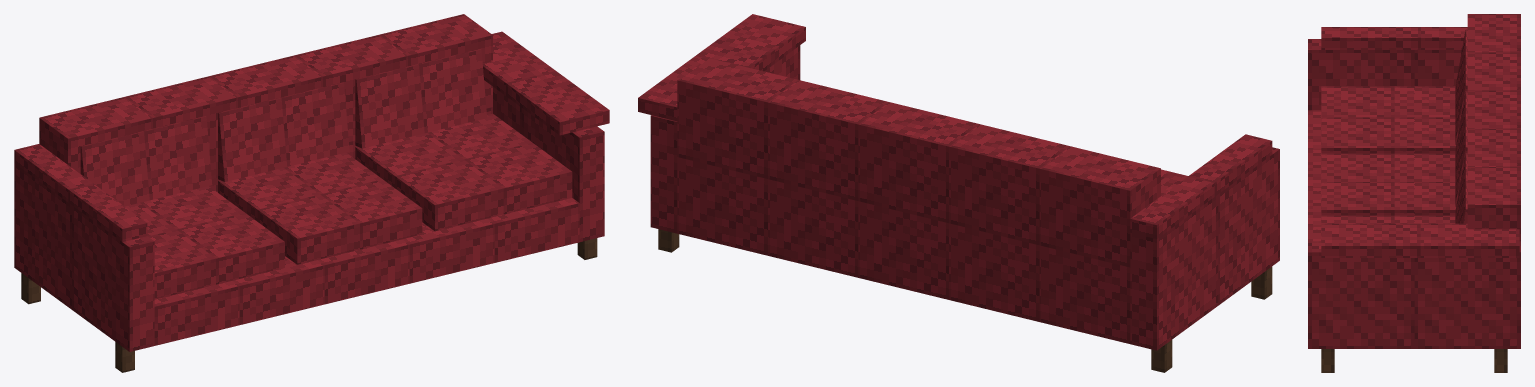
File: loungeCouchWide_6.glb
3 views of the same model, side by side, from view 1: azimuth 30°, elevation 25°; view 2: azimuth 150°, elevation 25°; view 3: azimuth 270°, elevation 25° (orthographic). The views are drawn at different scales.
Visible parts, largest first — view 1: loungeCouchWide_6; view 2: loungeCouchWide_6; view 3: loungeCouchWide_6.
Boxes of the visible parts, bbox=[...] form: loungeCouchWide_6: bbox=[14, 14, 609, 372]; loungeCouchWide_6: bbox=[638, 14, 1279, 372]; loungeCouchWide_6: bbox=[1308, 14, 1520, 372].
Size of the model in its own units: 2.44 by 0.8125 by 1.
Materials: 1 (1 with a texture image).
